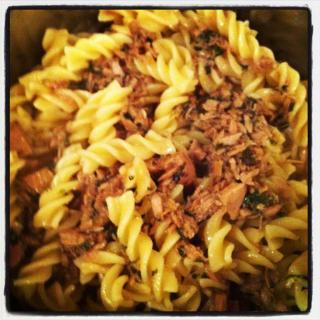Pasta: (8, 8, 310, 312)
